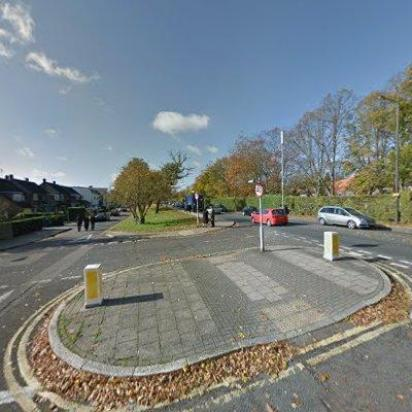moving-car: (316, 205, 374, 229), (250, 206, 288, 226), (204, 205, 222, 215), (241, 205, 257, 215)
moving-heavy-truck: (184, 194, 204, 212)
stationary-car-onstreet: (94, 211, 110, 221), (105, 208, 121, 216)
